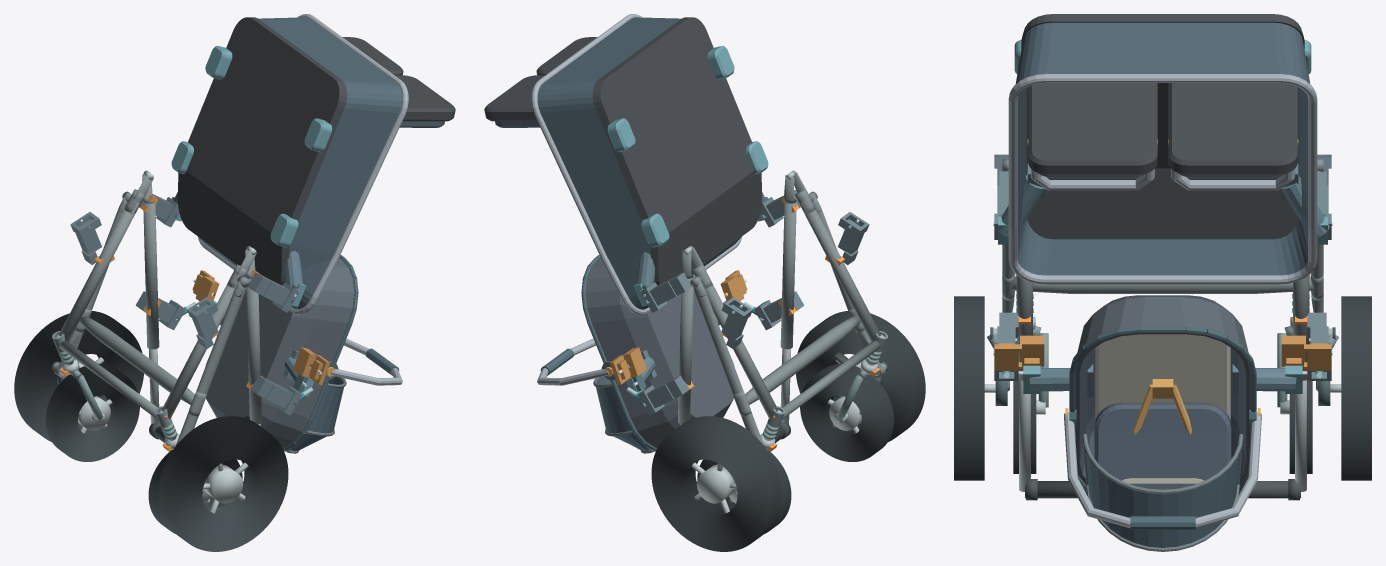
File: D32_w650_state3_wheel_L.glb
3 renders of one model, left to right at view 1: azimuth 30°, elevation 25°; view 2: azimuth 150°, elevation 25°; view 3: azimuth 270°, elevation 25°, orthographic. The views are drawn at different scales.
Visible parts, largest first — view 1: D32_Lower, D32_Upper, RL_tire.008, FR_tire.008, RR_tire.008, V46_rearbar.009, main_upper_1.009, main_lower_1.009, V46_rear_leg_-1.009, main_upper_-1.009, main_lower_-1.009, front_fixed_round_tube.008 (+14 smaller); view 2: D32_Lower, D32_Upper, RR_tire.008, FL_tire.008, RL_tire.008, V46_rearbar.009, main_upper_-1.009, main_lower_-1.009, V46_rear_leg_1.009, main_upper_1.009, main_lower_1.009, front_fixed_round_tube.008 (+14 smaller); view 3: D32_Lower, D32_Upper, RL_tire.008, RR_tire.008, D32_Upper_Mount_H, V46_rearbar.009, D32_Lower_Mount_M, D02_WideAdapter_H_-1, D02_WideAdapter_H_1, round_handle.008, handle_slider_1.008, handle_slider_-1.008 (+8 smaller).
Part boxes in pixels (x1,y1,x2,y2): D32_Lower: (171, 14, 455, 314); D32_Upper: (205, 254, 402, 453); RL_tire.008: (158, 416, 288, 551); FR_tire.008: (45, 363, 139, 461); RR_tire.008: (14, 311, 143, 441); V46_rearbar.009: (79, 316, 194, 404); main_upper_1.009: (143, 202, 159, 349); main_lower_1.009: (59, 202, 139, 341); V46_rear_leg_-1.009: (175, 287, 245, 446); main_upper_-1.009: (246, 277, 261, 424); main_lower_-1.009: (161, 283, 237, 418); front_fixed_round_tube.008: (59, 340, 157, 419); D32_Lower: (484, 14, 768, 314); D32_Upper: (537, 254, 734, 453); RR_tire.008: (651, 416, 781, 551); FL_tire.008: (800, 363, 894, 461); RL_tire.008: (796, 311, 925, 441); V46_rearbar.009: (745, 316, 860, 404); main_upper_-1.009: (780, 202, 796, 349); main_lower_-1.009: (800, 202, 880, 341); V46_rear_leg_1.009: (694, 287, 764, 446); main_upper_1.009: (678, 275, 693, 424); main_lower_1.009: (702, 283, 778, 418); front_fixed_round_tube.008: (782, 340, 880, 419); D32_Lower: (1008, 14, 1317, 284); D32_Upper: (1064, 295, 1261, 551); RL_tire.008: (954, 296, 984, 480); RR_tire.008: (1341, 296, 1371, 480); D32_Upper_Mount_H: (1018, 364, 1307, 396); V46_rearbar.009: (1012, 276, 1313, 293); D32_Lower_Mount_M: (993, 163, 1332, 244); D02_WideAdapter_H_-1: (993, 335, 1044, 370); D02_WideAdapter_H_1: (1281, 335, 1332, 370); round_handle.008: (1025, 481, 1300, 498); handle_slider_1.008: (1295, 380, 1306, 491); handle_slider_-1.008: (1019, 380, 1030, 491).
Bounding box in the file's own units: 0.9662 × 1.19 × 0.8171.
